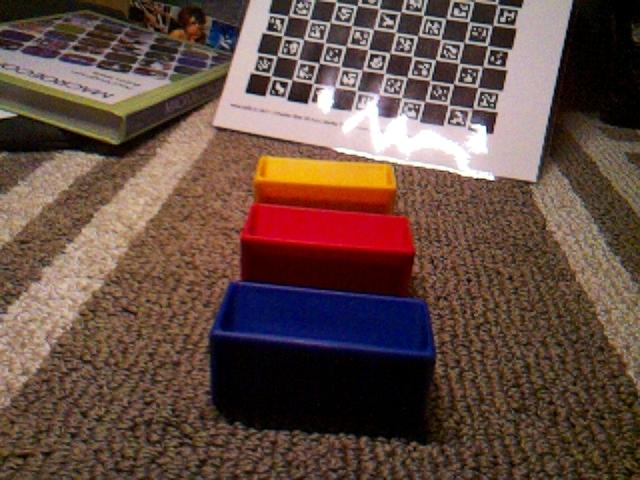blue: (207, 279, 437, 432)
red: (239, 201, 417, 296)
yellow: (253, 154, 398, 213)
